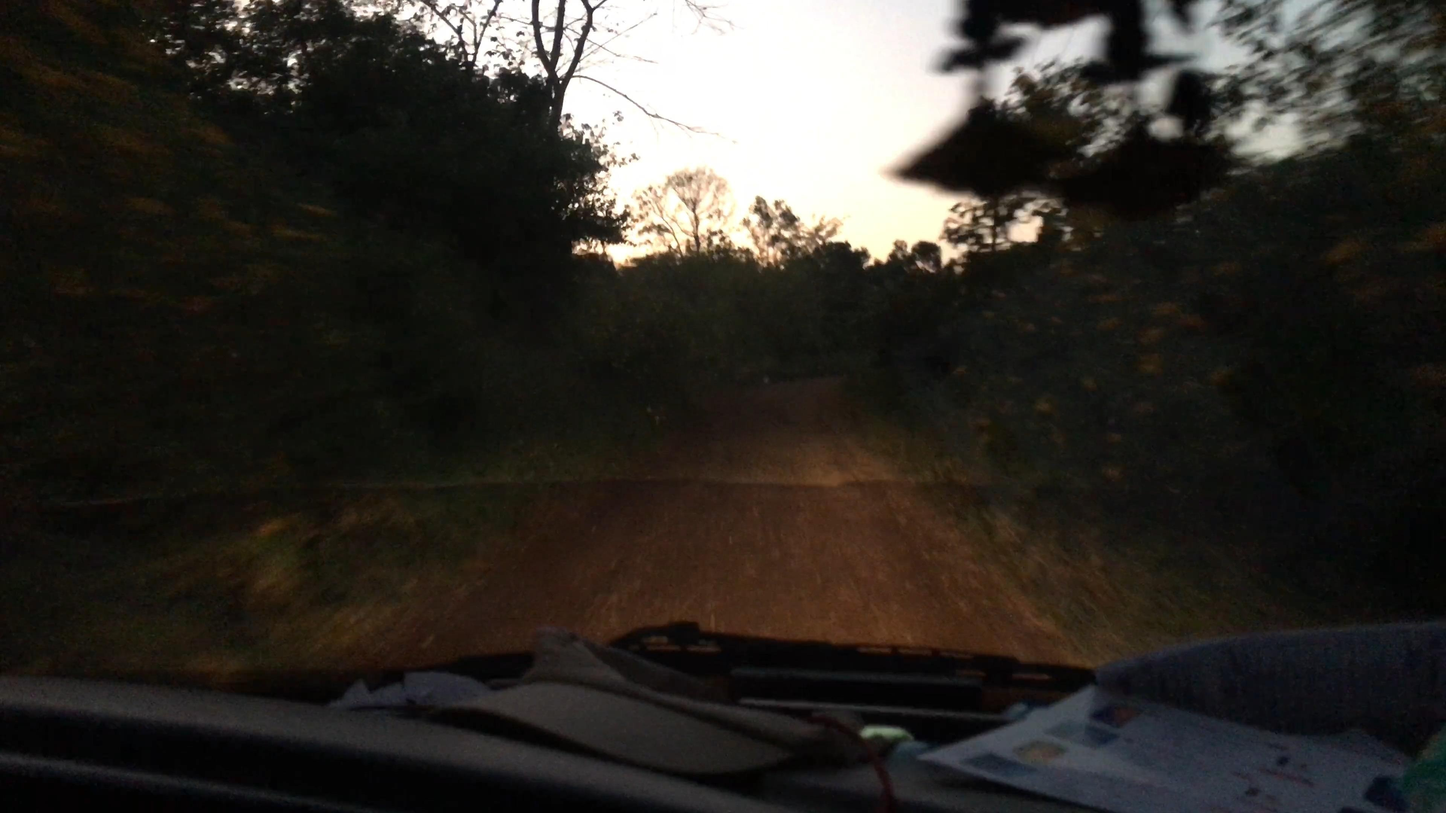dry: (304, 374, 1104, 676)
